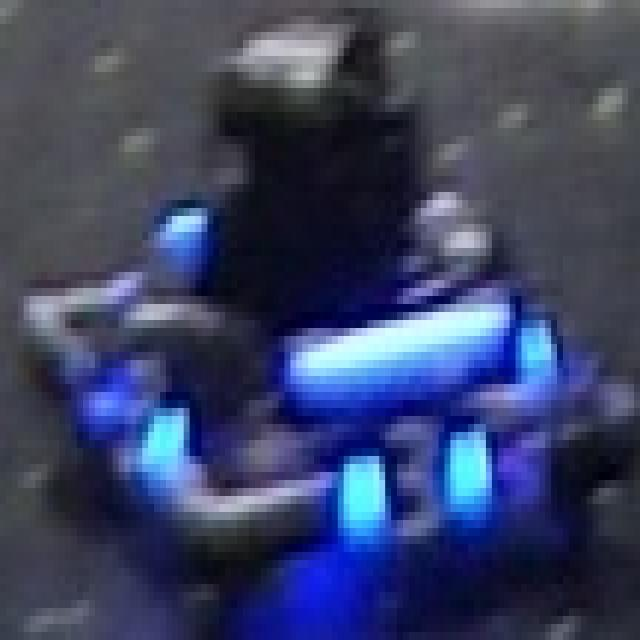B3: (338, 416, 492, 536), (89, 352, 190, 488)
